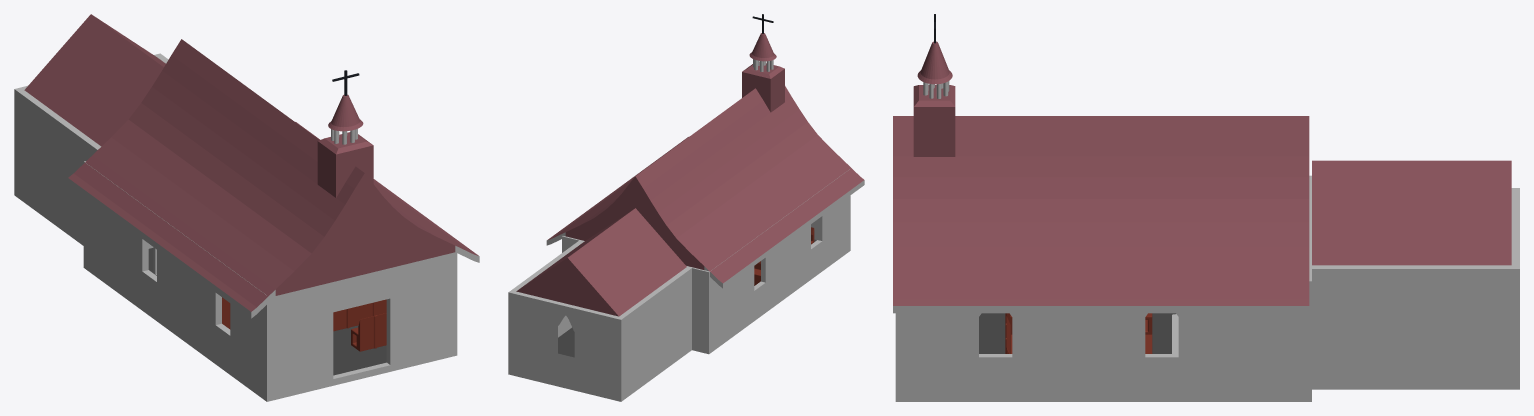
Rendered from chapelle.gltf.
The picture shows the model from 3 angles, left to right: view 1: azimuth 30°, elevation 25°; view 2: azimuth 150°, elevation 25°; view 3: azimuth 270°, elevation 25°; orthographic projection. The views are drawn at different scales.
Visible parts, largest first — view 1: toit, chapelle, siege.001; view 2: chapelle, toit; view 3: toit, chapelle.
Part boxes in pixels (x1=…): toit: x1=68, y1=39, x2=479, y2=318; chapelle: x1=14, y1=14, x2=457, y2=401; siege.001: x1=333, y1=299, x2=386, y2=351; chapelle: x1=508, y1=169, x2=850, y2=401; toit: x1=546, y1=14, x2=864, y2=288; toit: x1=893, y1=14, x2=1309, y2=313; chapelle: x1=895, y1=160, x2=1519, y2=401.
Size of the model in its own units: 7.19 by 8.89 by 15.06.
